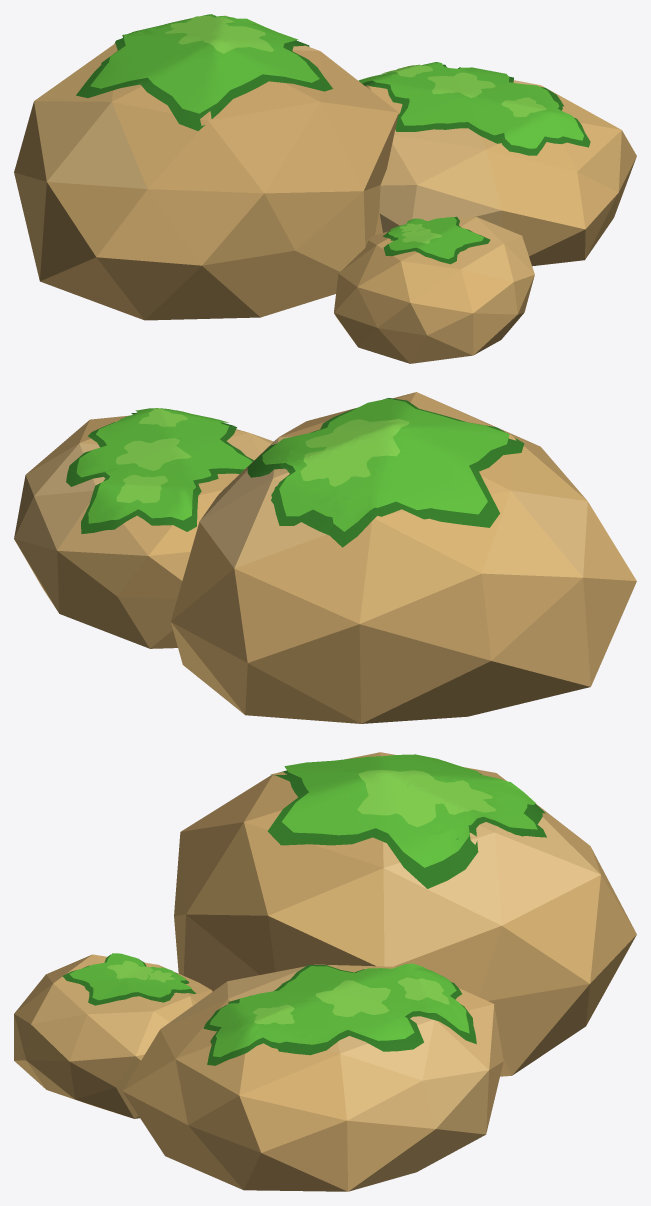
The model's file is rock_7_clover.glb.
3 views of the same model, one above another, from view 1: azimuth 30°, elevation 25°; view 2: azimuth 150°, elevation 25°; view 3: azimuth 270°, elevation 25° (orthographic). The views are drawn at different scales.
Parts seen in each view (by area): view 1: rock_7_clover; view 2: rock_7_clover; view 3: rock_7_clover.
Part boxes in pixels (<box>): rock_7_clover: <box>14,14,636,363</box>; rock_7_clover: <box>14,392,636,723</box>; rock_7_clover: <box>14,752,636,1191</box>.
Size of the model in its own units: 2.57 by 1.05 by 2.29.
